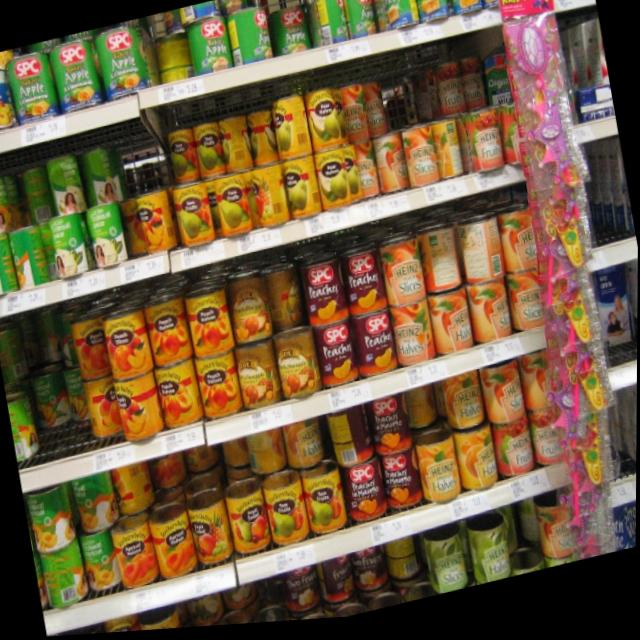q91: (77, 210, 133, 288), (45, 143, 92, 223), (45, 218, 90, 290), (7, 230, 50, 297), (0, 231, 18, 303), (0, 169, 17, 242)
